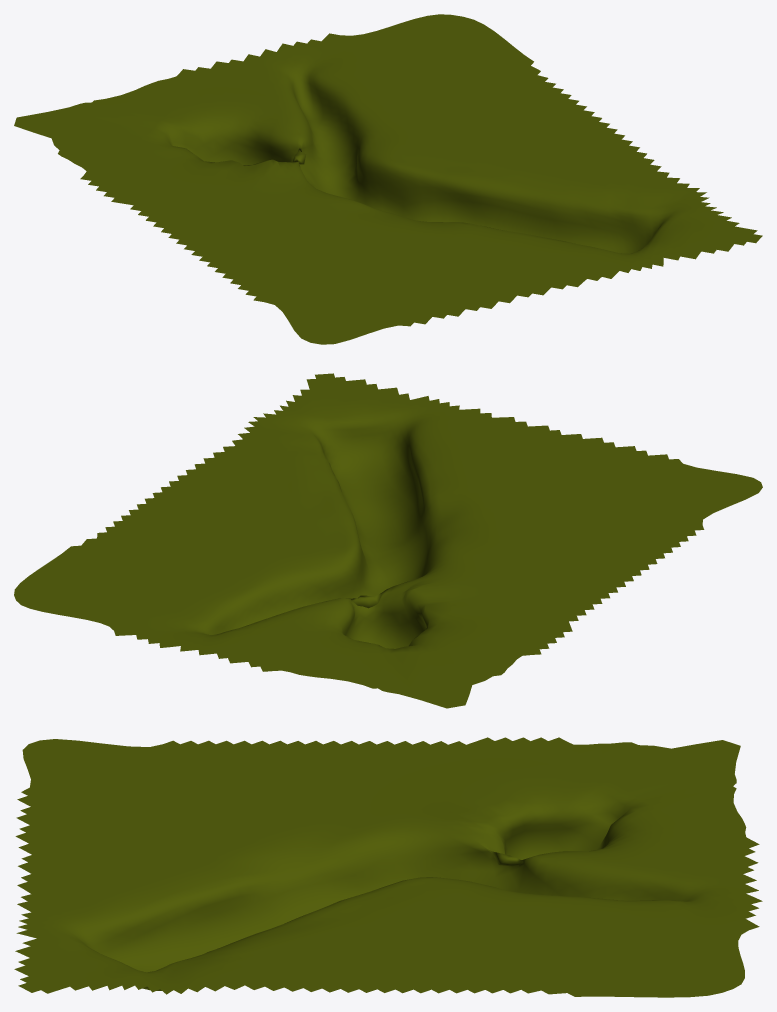
The model's file is hand print.obj.
3 views of the same model, one above another, from view 1: azimuth 30°, elevation 25°; view 2: azimuth 150°, elevation 25°; view 3: azimuth 270°, elevation 25° (orthographic). The views are drawn at different scales.
Visible parts, largest first — view 1: Cube; view 2: Cube; view 3: Cube.
Part boxes in pixels (bbox=[...]): Cube: bbox=[14, 14, 762, 344]; Cube: bbox=[14, 373, 762, 708]; Cube: bbox=[14, 737, 762, 997].
Bounding box in the file's own units: 0.4496 × 0.0576 × 0.5471.
